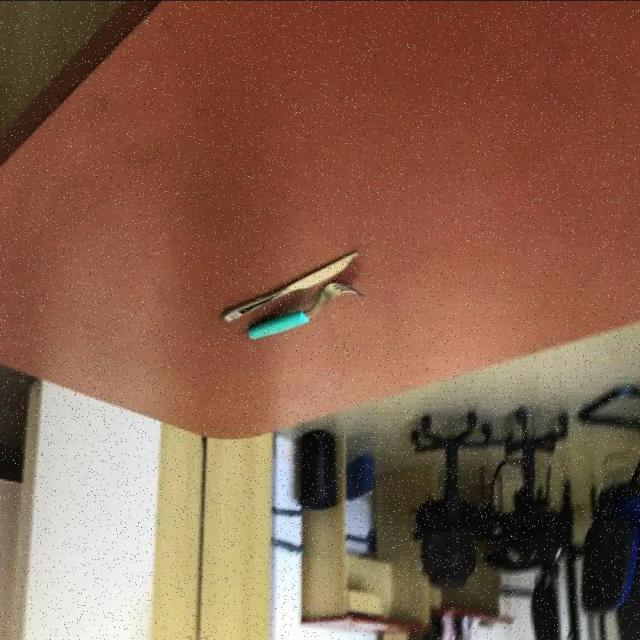Fork: (247, 279, 364, 339)
Knife: (218, 247, 358, 321)
